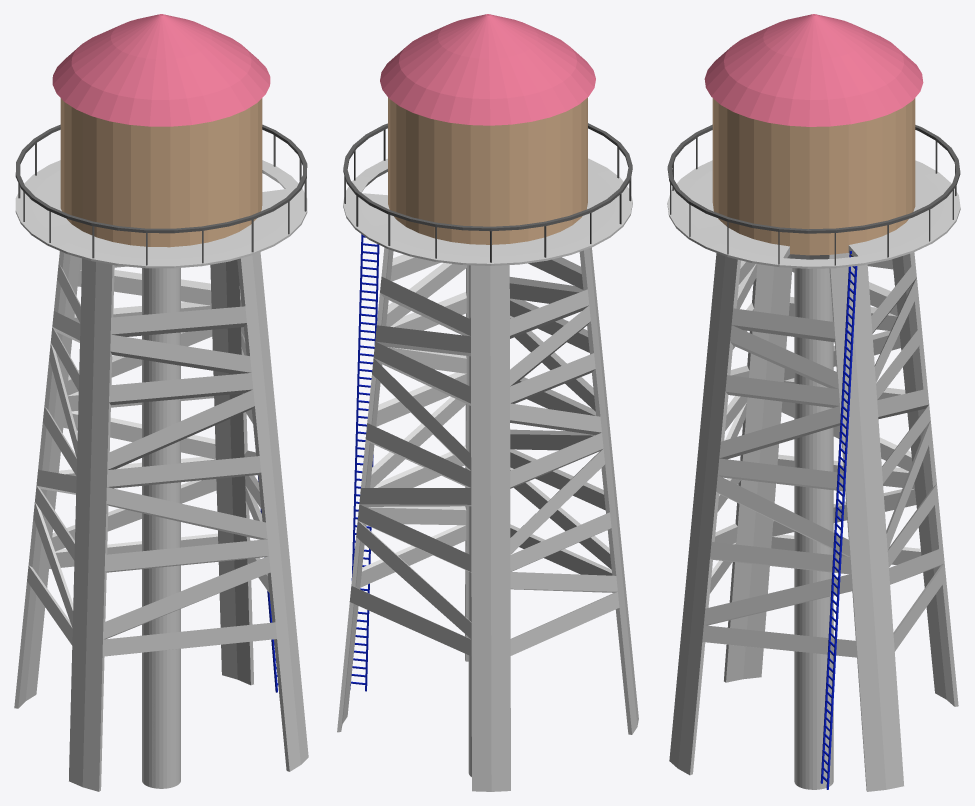
The model's file is Water Tower.fbx.
3 renders of one model, left to right at view 1: azimuth 30°, elevation 25°; view 2: azimuth 150°, elevation 25°; view 3: azimuth 270°, elevation 25°, orthographic.
Visible parts, largest first — view 1: Head; view 2: Head; view 3: Head.
Part boxes in pixels (bbox=[...]): Head: bbox=[14, 14, 308, 791]; Head: bbox=[337, 14, 638, 791]; Head: bbox=[667, 14, 960, 791].
Size of the model in its own units: 715 by 2007 by 696.
